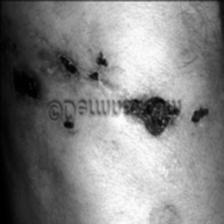Potentially Malignant Skin Tumors: (8, 69, 38, 99), (190, 100, 208, 130), (60, 50, 79, 76)
